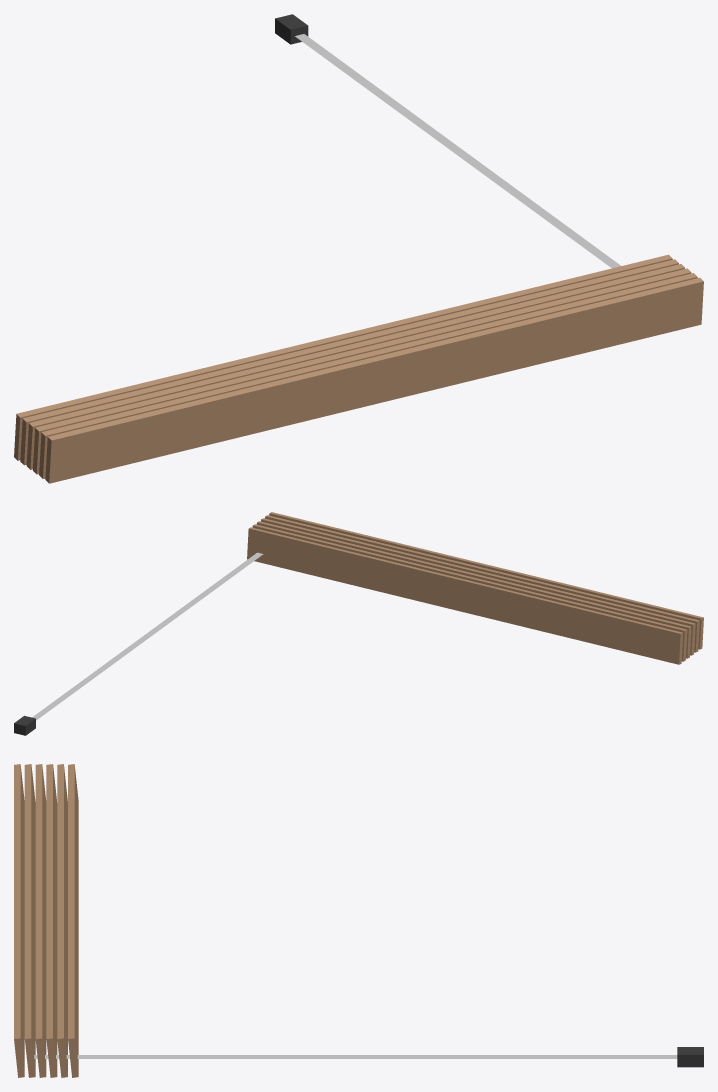
Rendered from Door_Ac_B.obj.
3 views of the same model, one above another, from view 1: azimuth 30°, elevation 25°; view 2: azimuth 150°, elevation 25°; view 3: azimuth 270°, elevation 25° (orthographic). The views are drawn at different scales.
Parts seen in each view (by area): view 1: Door_Ac_B; view 2: Door_Ac_B; view 3: Door_Ac_B.
Part boxes in pixels (x1=…): Door_Ac_B: x1=14, y1=14, x2=703, y2=483; Door_Ac_B: x1=14, y1=512, x2=703, y2=735; Door_Ac_B: x1=14, y1=764, x2=703, y2=1077.
Bounding box in the file's own units: 0.6773 × 0.0456 × 0.7199.
